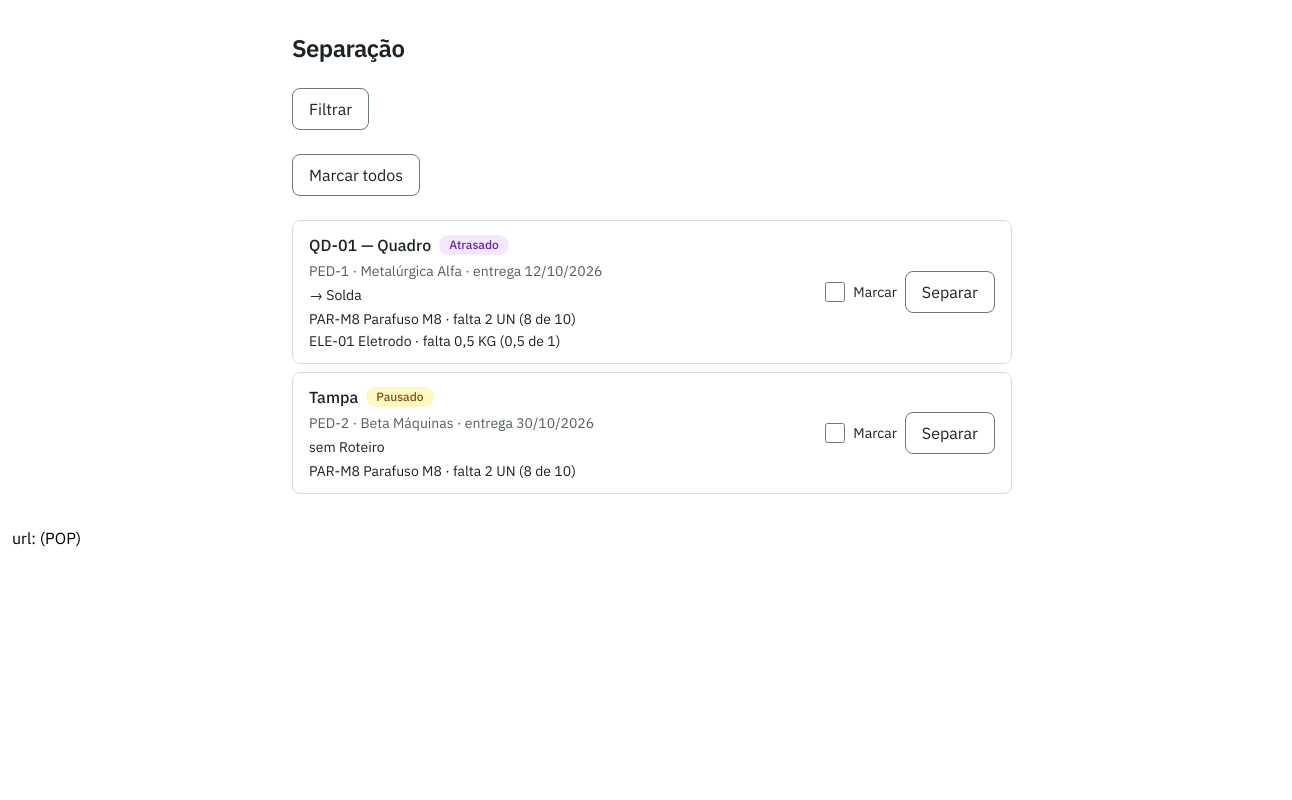
Test: SeparacaoPage › separar em lote › recusa recarrega, mantém a seleção e mostra a frase na barra; sucesso limpa e recarrega
Click the checkbox named "Marcar QD-01 — Quadro (PED-1)" at (835, 292), box top-left (825, 282), bottom-right (845, 302)
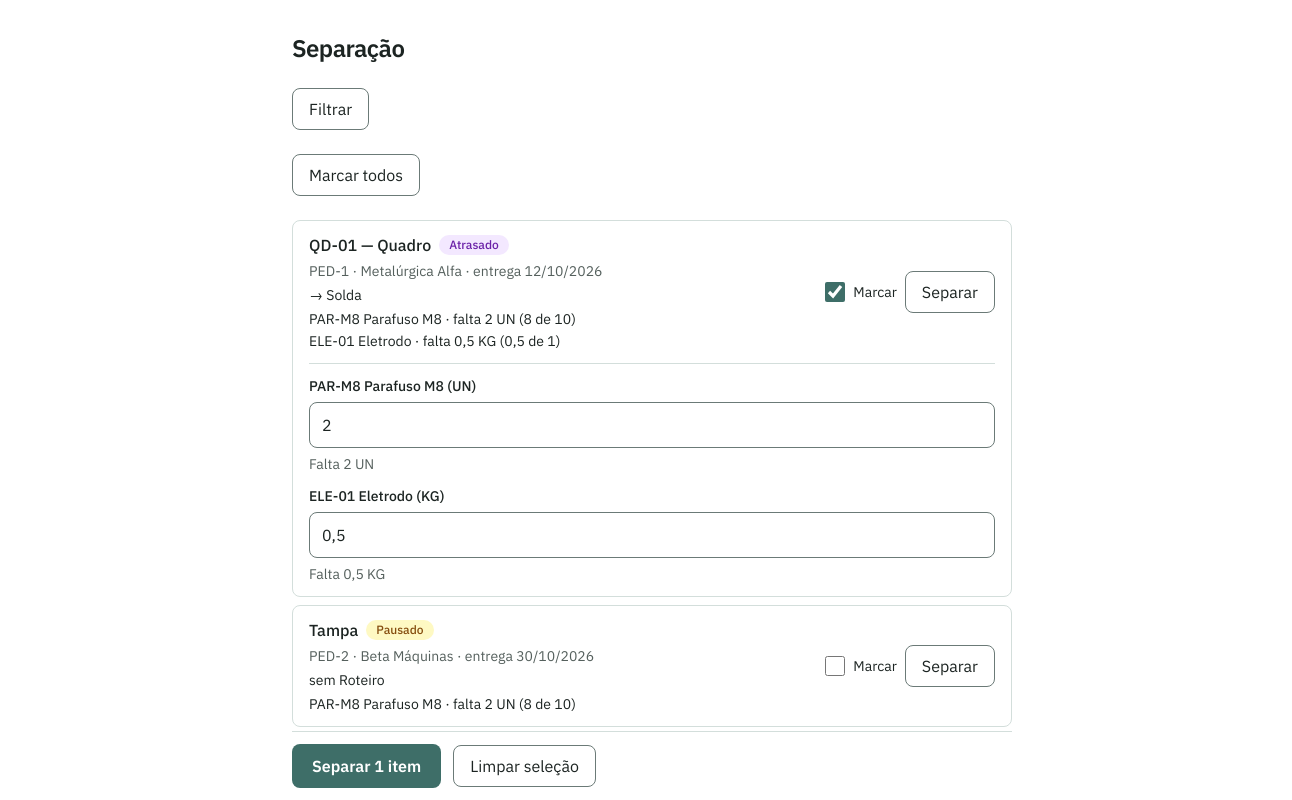
Click the checkbox named "Marcar Tampa (PED-2)" at (835, 666), box top-left (825, 656), bottom-right (845, 676)
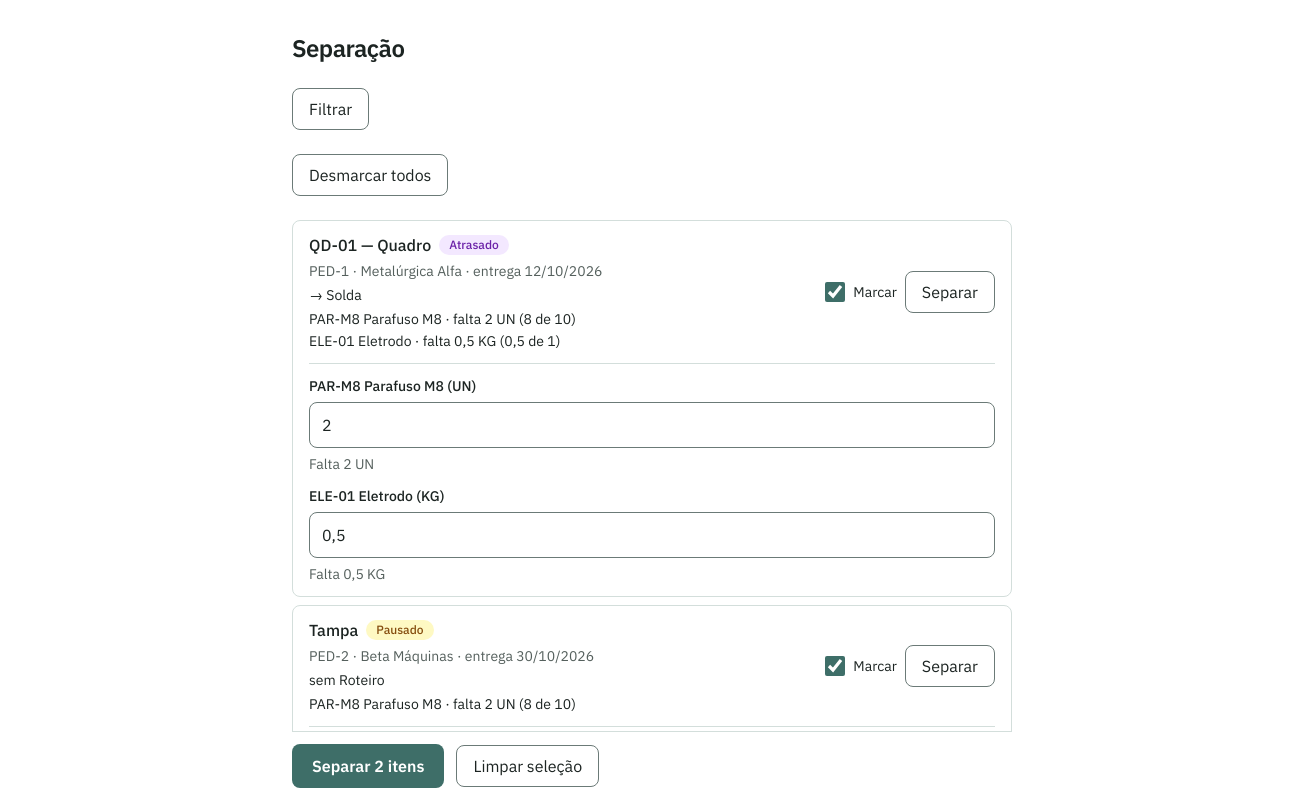
Click the button "Separar 2 itens" at (368, 766), box top-left (292, 744), bottom-right (444, 788)
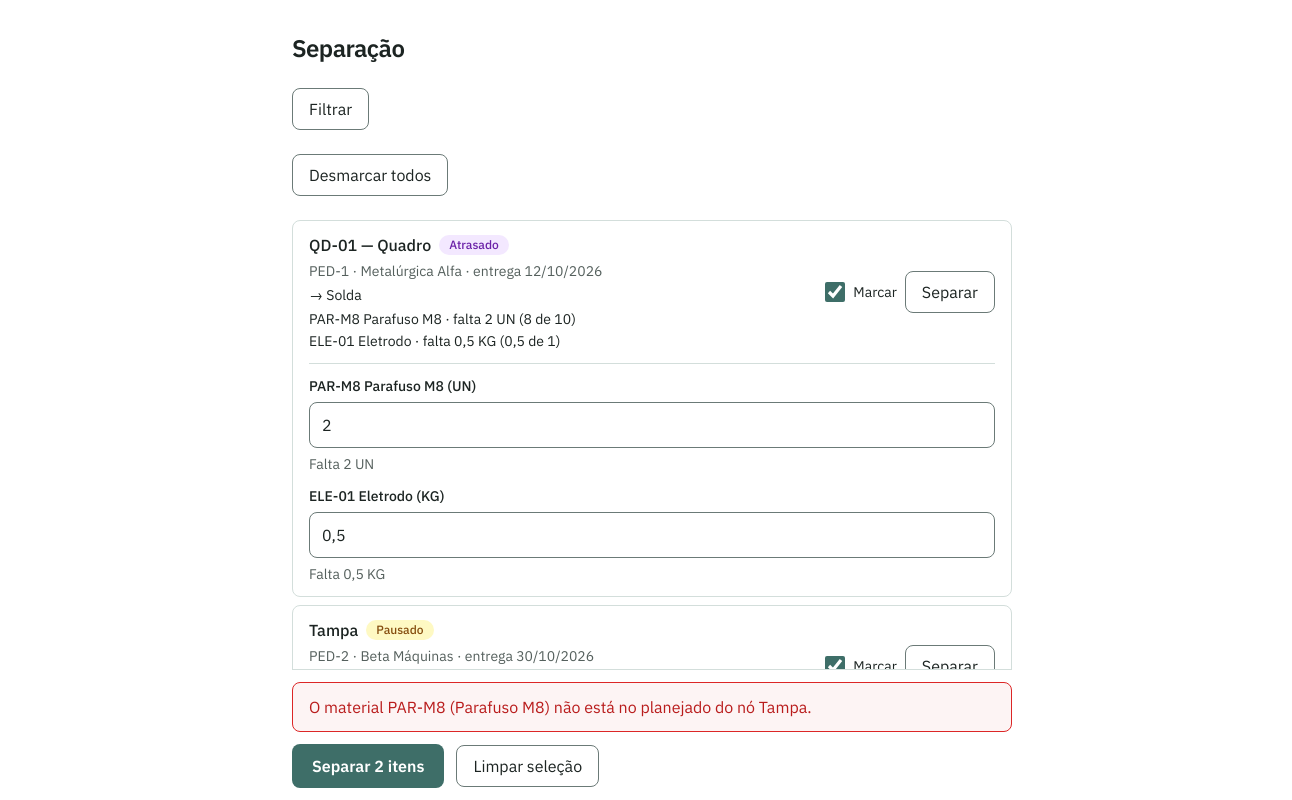
Expected: the checkbox named "Marcar QD-01 — Quadro (PED-1)" is checked, top-left (825, 282), bottom-right (845, 302)
Expected: the checkbox named "Marcar Tampa (PED-2)" is checked, top-left (825, 656), bottom-right (845, 676)
Expected: the message reads "O material PAR-M8 (Parafuso M8) não está no planejado do nó Tampa.", top-left (309, 697), bottom-right (812, 717)
Click the button "Separar 2 itens" at (368, 766), box top-left (292, 744), bottom-right (444, 788)
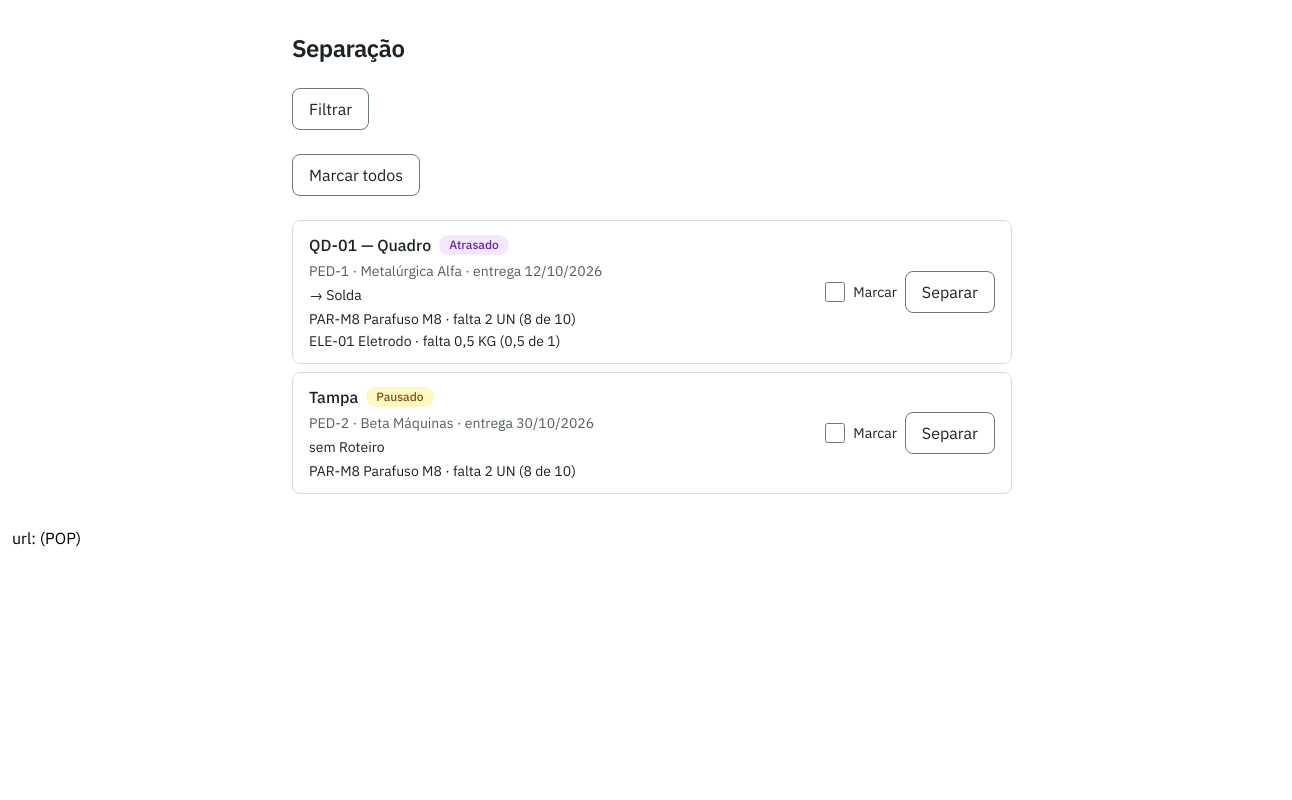
Expected: the checkbox named "Marcar Tampa (PED-2)" is not checked, top-left (825, 423), bottom-right (845, 443)
Expected: the button "Separar 2 itens" is gone
Expected: the message "O material PAR-M8 (Parafuso M8) não está no planejado do nó Tampa." is gone
